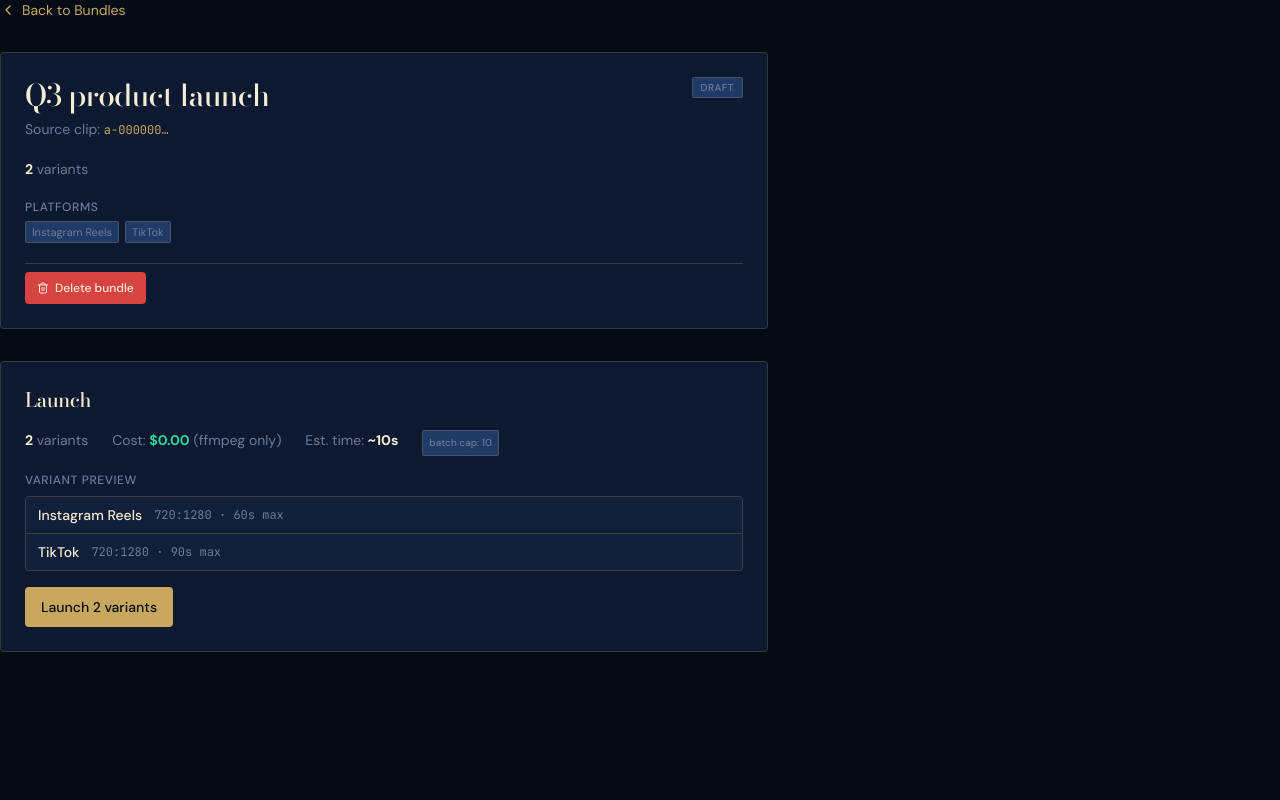
it: BundleDetailRoute — DRAFT › opens launch modal on launch button click
Click the button with test id "launch-btn": (99, 607) x1=25 y1=587 x2=173 y2=627
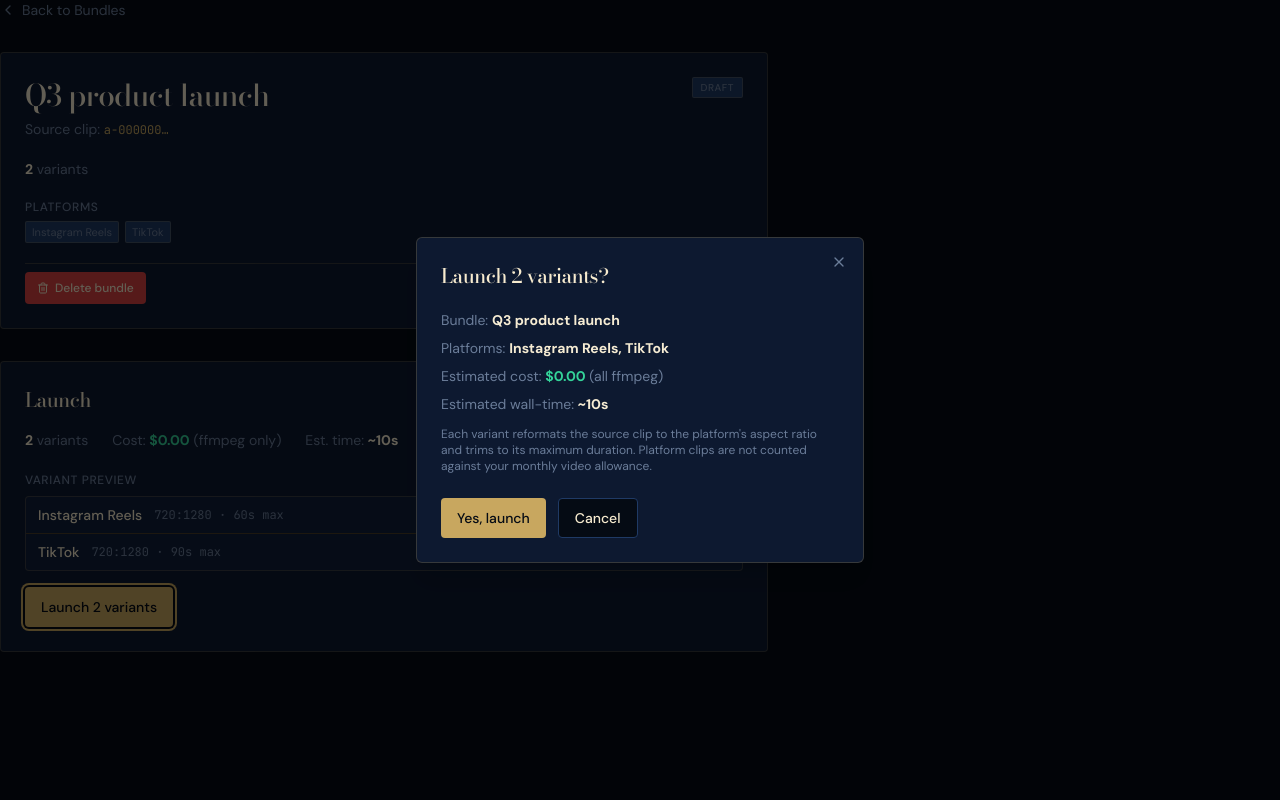
Check: the dialog with test id "launch-modal" is shown, box x1=416 y1=237 x2=864 y2=563
Check: the heading with test id "launch-modal-heading" shows "2 variants", box x1=441 y1=260 x2=609 y2=291
